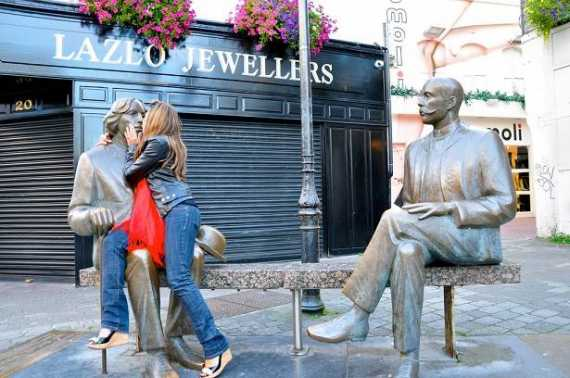person: (409, 64, 507, 167)
